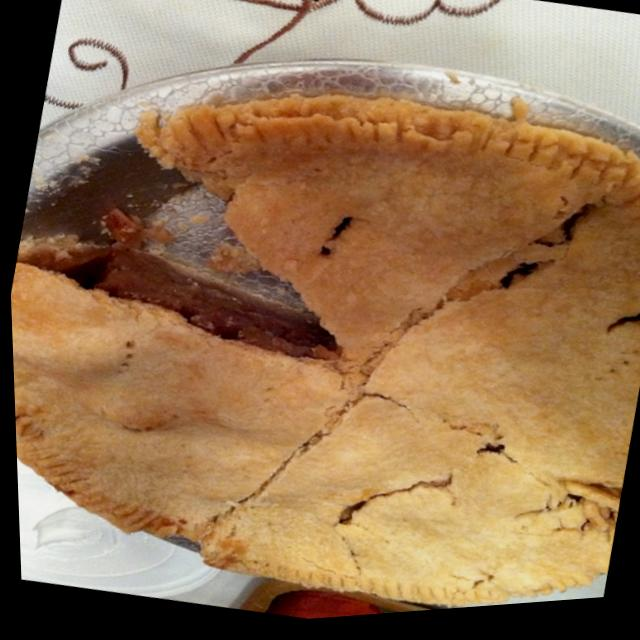炸货点心: (2, 25, 640, 640)
蛋糕甜品: (2, 25, 640, 640)
